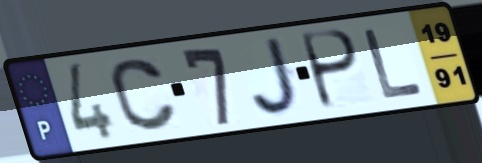4: (66, 59, 119, 144)
7: (178, 46, 232, 128)
C: (106, 56, 181, 134)
J: (248, 34, 305, 119)
L: (359, 25, 428, 102)
P: (300, 27, 363, 113)
